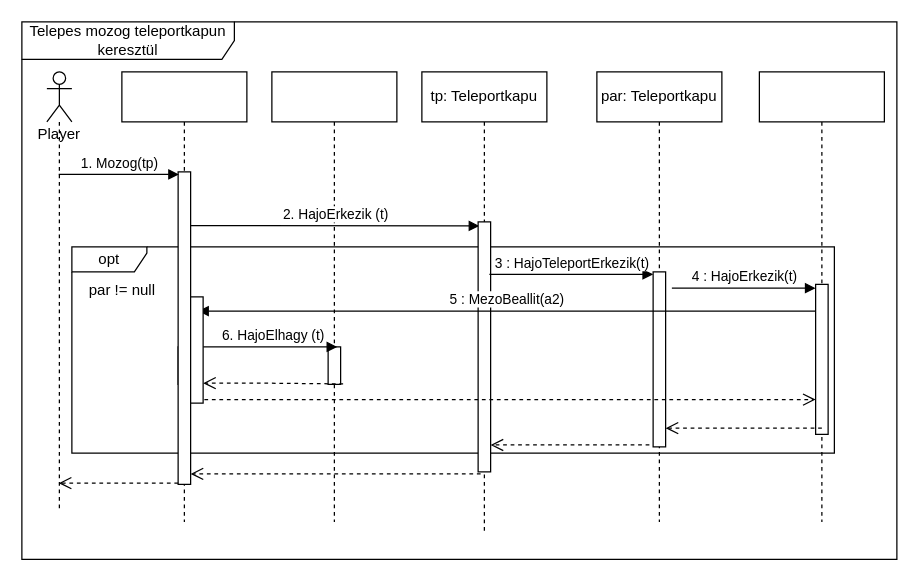
Image size: 919x581. Some labels were removed from this diagram. Here are the shapes that lost their labels. From the top down, the box of each, then its label:
(121, 71, 247, 522): t: Telepes
(271, 71, 397, 522): a: Aszteroida
(758, 71, 884, 522): a2: Aszteroida
